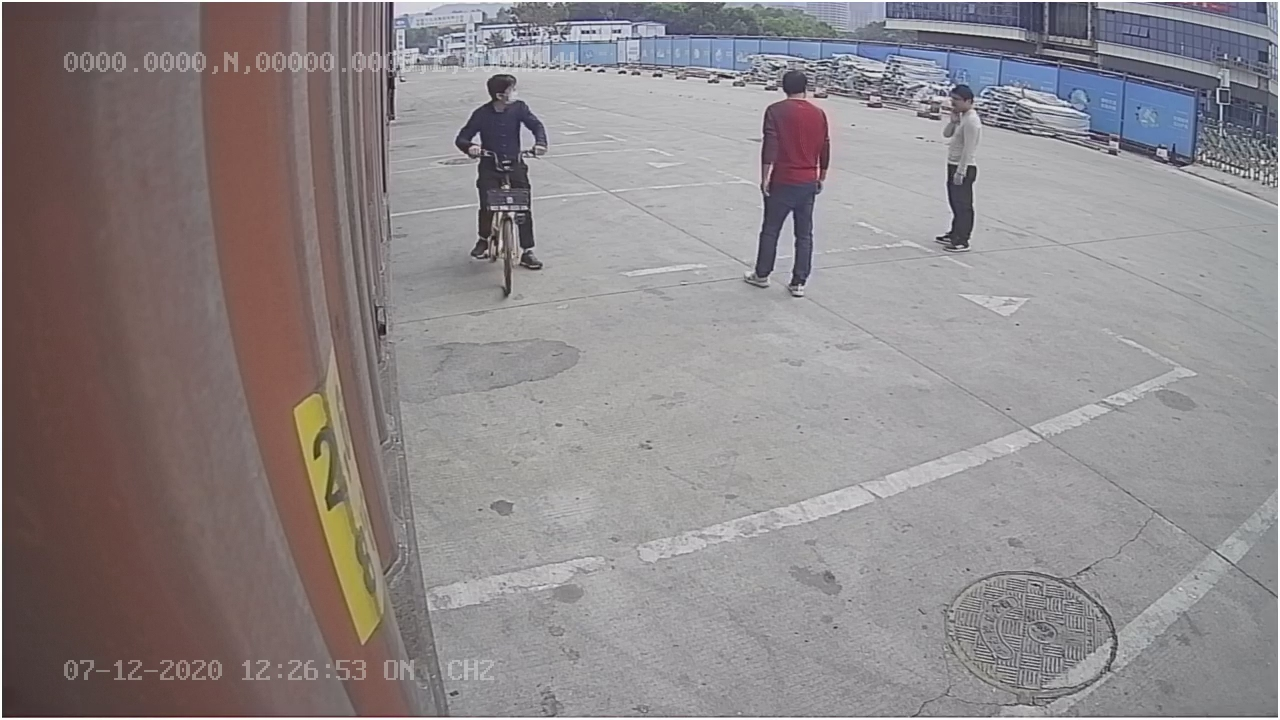person: (735, 67, 836, 291)
